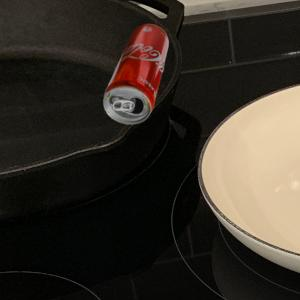can: (101, 23, 170, 127)
